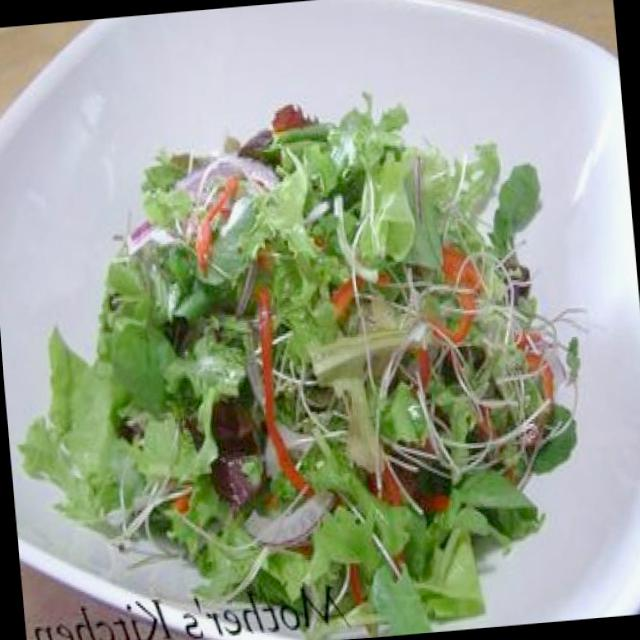Green Salad: (18, 80, 584, 584)
